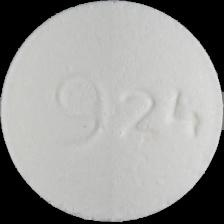54868-5182: (0, 0, 224, 224)
